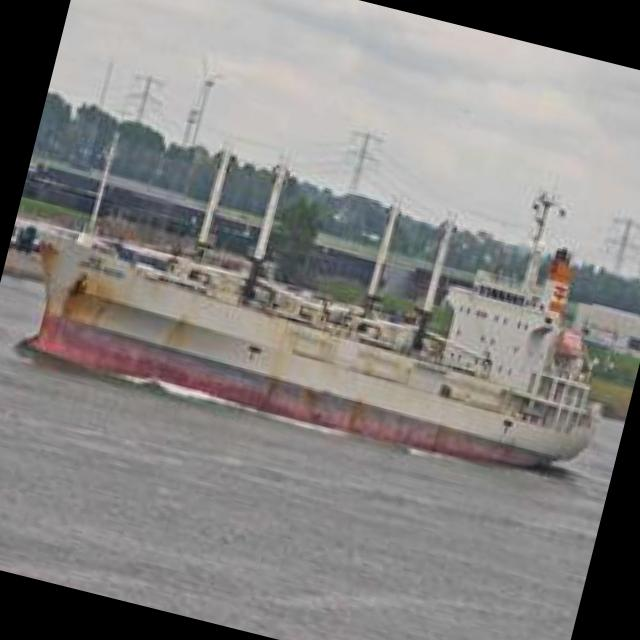boat: (8, 221, 625, 516)
